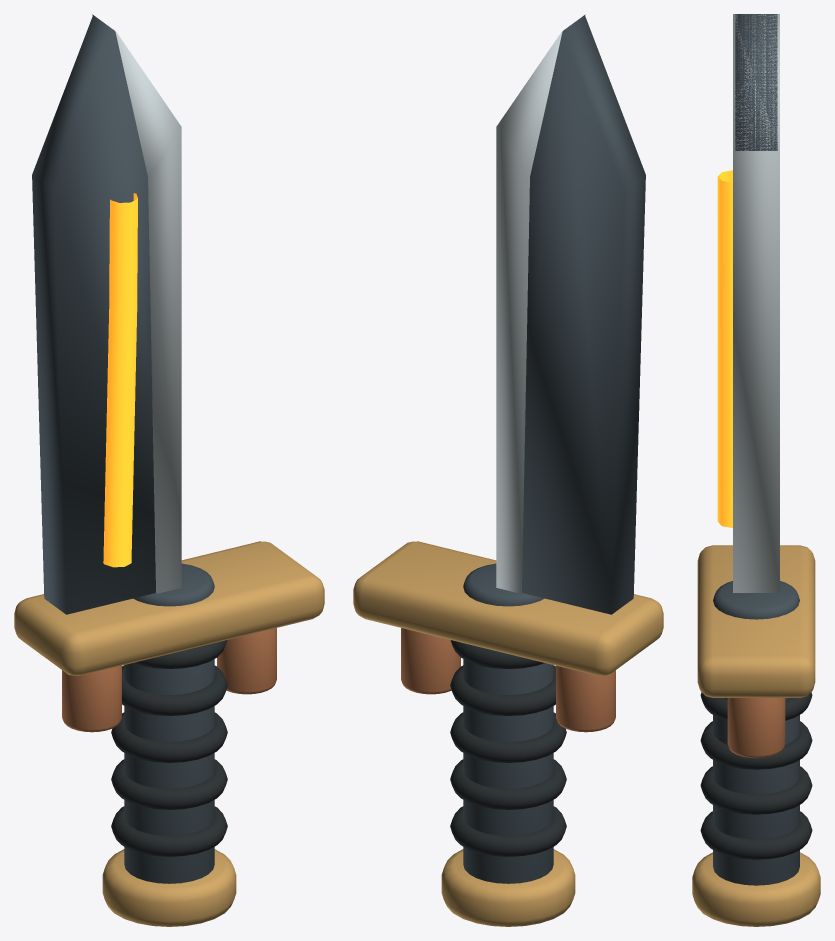
Rendered from flame_sword.t2.glb.
The picture shows the model from 3 angles, left to right: view 1: azimuth 30°, elevation 25°; view 2: azimuth 150°, elevation 25°; view 3: azimuth 270°, elevation 25°; orthographic projection. The views are drawn at different scales.
Visible parts, largest first — view 1: weapon_right__forged_bluelead_steel__protected, weapon_right__worn_warm_brass__protected, weapon_right__honed_steel_edge__protected, weapon_right__charcoal_rubber__protected, weapon_right__flame_channel__protected, weapon_right__burnished_copper__protected; view 2: weapon_right__forged_bluelead_steel__protected, weapon_right__worn_warm_brass__protected, weapon_right__honed_steel_edge__protected, weapon_right__charcoal_rubber__protected, weapon_right__burnished_copper__protected; view 3: weapon_right__honed_steel_edge__protected, weapon_right__worn_warm_brass__protected, weapon_right__forged_bluelead_steel__protected, weapon_right__charcoal_rubber__protected, weapon_right__flame_channel__protected, weapon_right__burnished_copper__protected.
Part boxes in pixels (x1,y1,x2,y2): weapon_right__forged_bluelead_steel__protected: (32, 15, 214, 883); weapon_right__worn_warm_brass__protected: (14, 541, 324, 926); weapon_right__honed_steel_edge__protected: (92, 14, 181, 593); weapon_right__charcoal_rubber__protected: (111, 640, 227, 856); weapon_right__flame_channel__protected: (103, 193, 137, 567); weapon_right__burnished_copper__protected: (62, 628, 276, 732); weapon_right__forged_bluelead_steel__protected: (463, 15, 645, 883); weapon_right__worn_warm_brass__protected: (353, 541, 663, 926); weapon_right__honed_steel_edge__protected: (496, 14, 585, 593); weapon_right__charcoal_rubber__protected: (450, 640, 566, 856); weapon_right__burnished_copper__protected: (401, 628, 615, 732); weapon_right__honed_steel_edge__protected: (733, 14, 779, 592); weapon_right__worn_warm_brass__protected: (692, 545, 820, 926); weapon_right__forged_bluelead_steel__protected: (713, 14, 799, 885); weapon_right__charcoal_rubber__protected: (700, 692, 812, 859); weapon_right__flame_channel__protected: (717, 170, 732, 527); weapon_right__burnished_copper__protected: (727, 698, 785, 758).
Bounding box in the file's own units: 0.288 × 0.945 × 0.1278.
